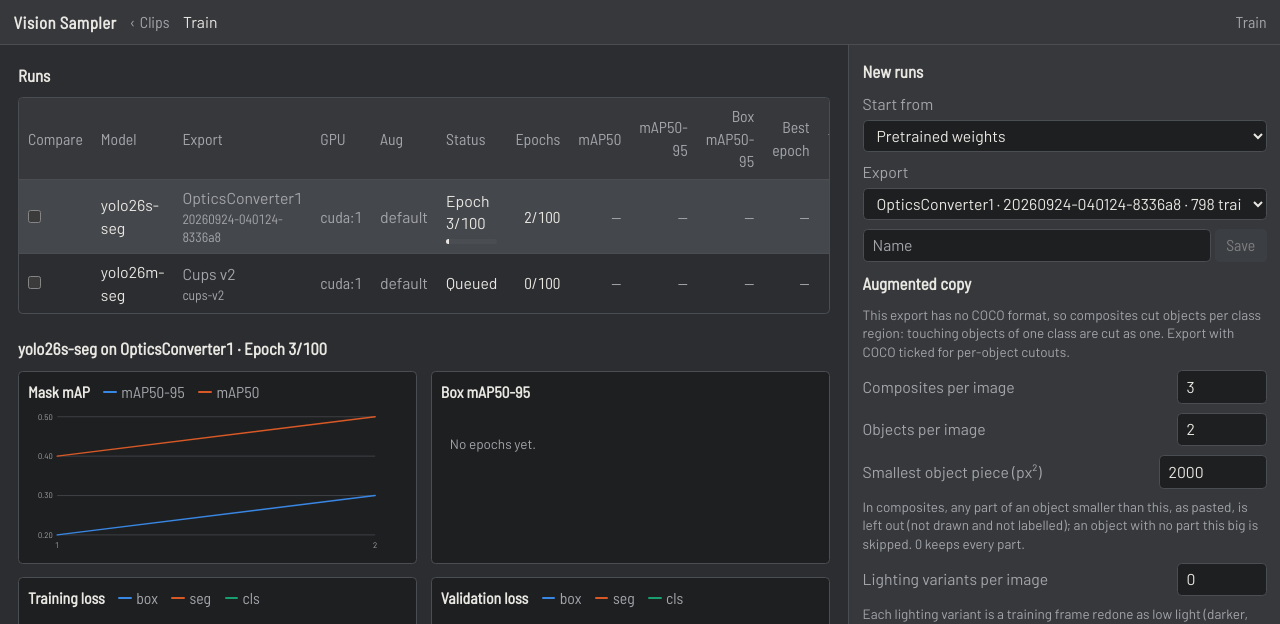
Test: Train page › shows the selected run's export name in the run-detail heading, else the project name
Note: Selecting r2 (whose export is named) switches the heading to the export's name.
Click the row named "Compare yolo26m-seg". click: (484,283)
box: [19, 254, 948, 313]
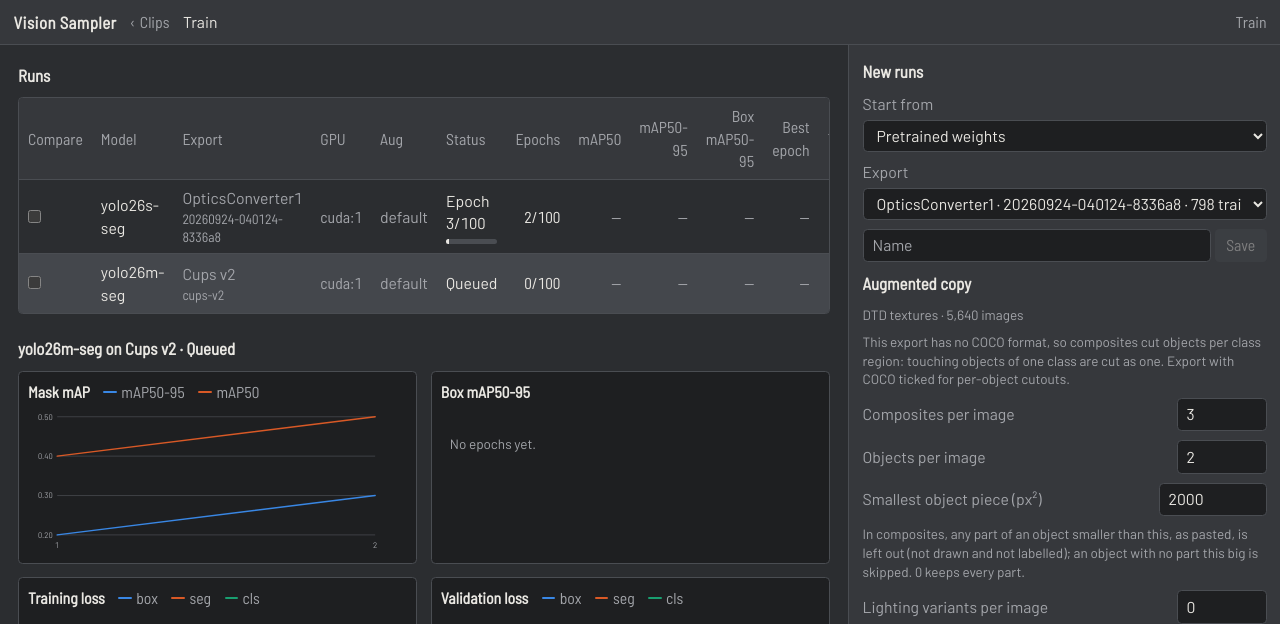
Now the text "yolo26m-seg on Cups v2 · Queued" is shown, box [18, 336, 235, 362]
